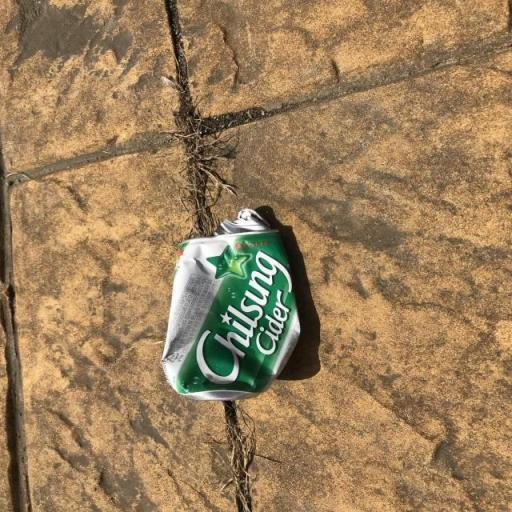metal: (118, 192, 351, 414)
